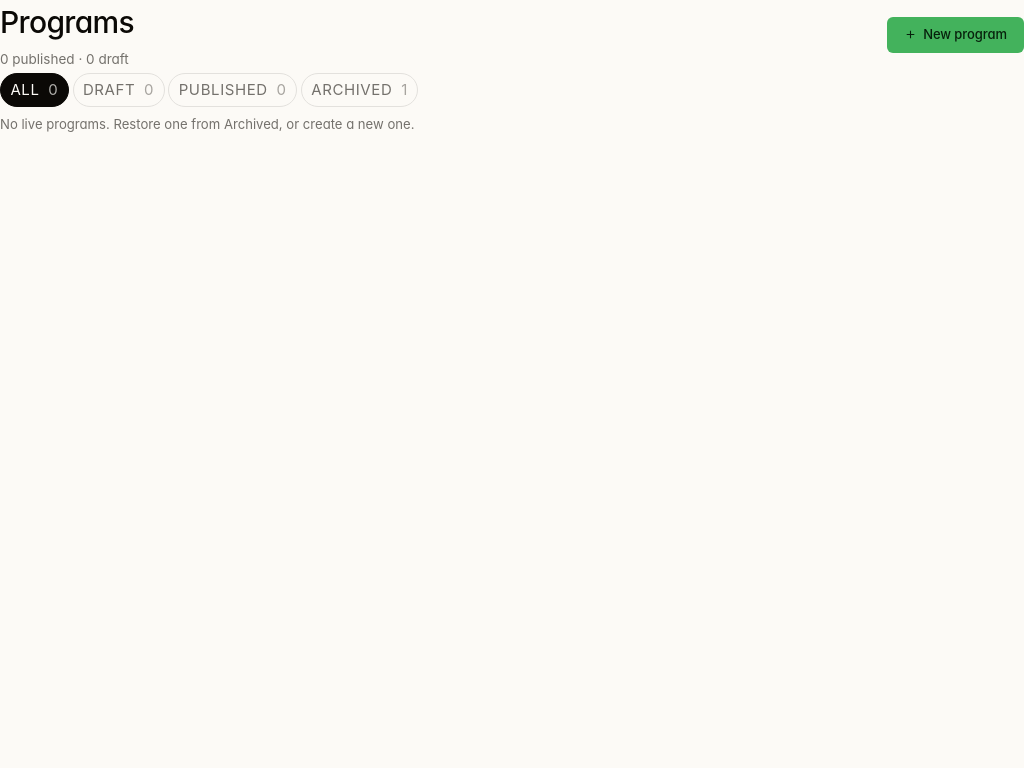
programs: restore › says a program with unpublished edits comes back as a draft
Click the button "Archived 1" at (360,90), box [301,73,418,107]
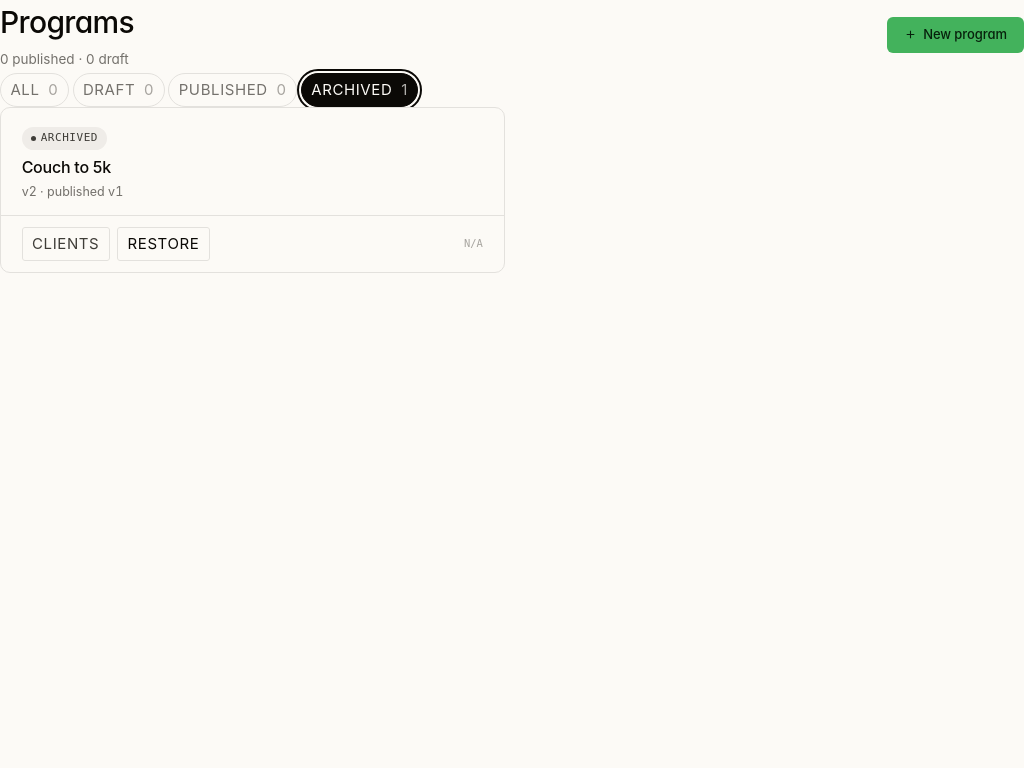
Click the button "Restore" at (163,244), box [117,227,210,261]
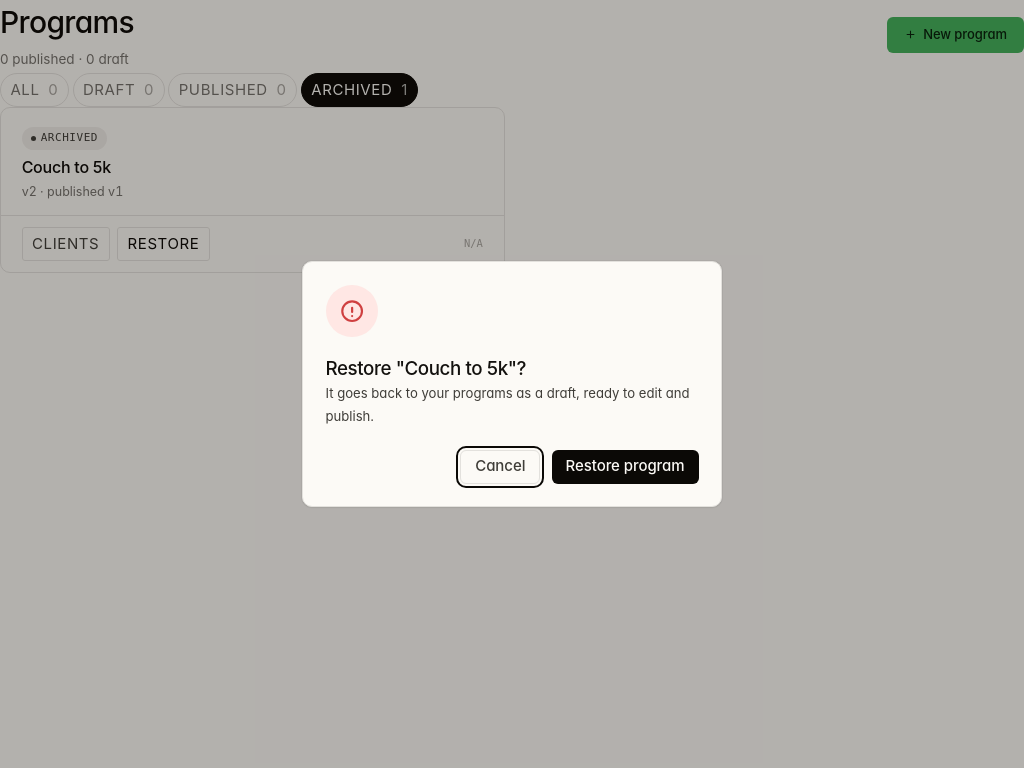
Now the dialog "Restore \"Couch to 5k\"?" shows "It goes back to your programs as a draft, ready to edit and publish.", box [326,385,689,424]
